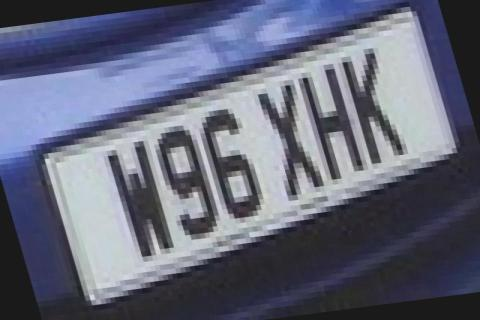LicensePlate: (0, 0, 480, 318)
